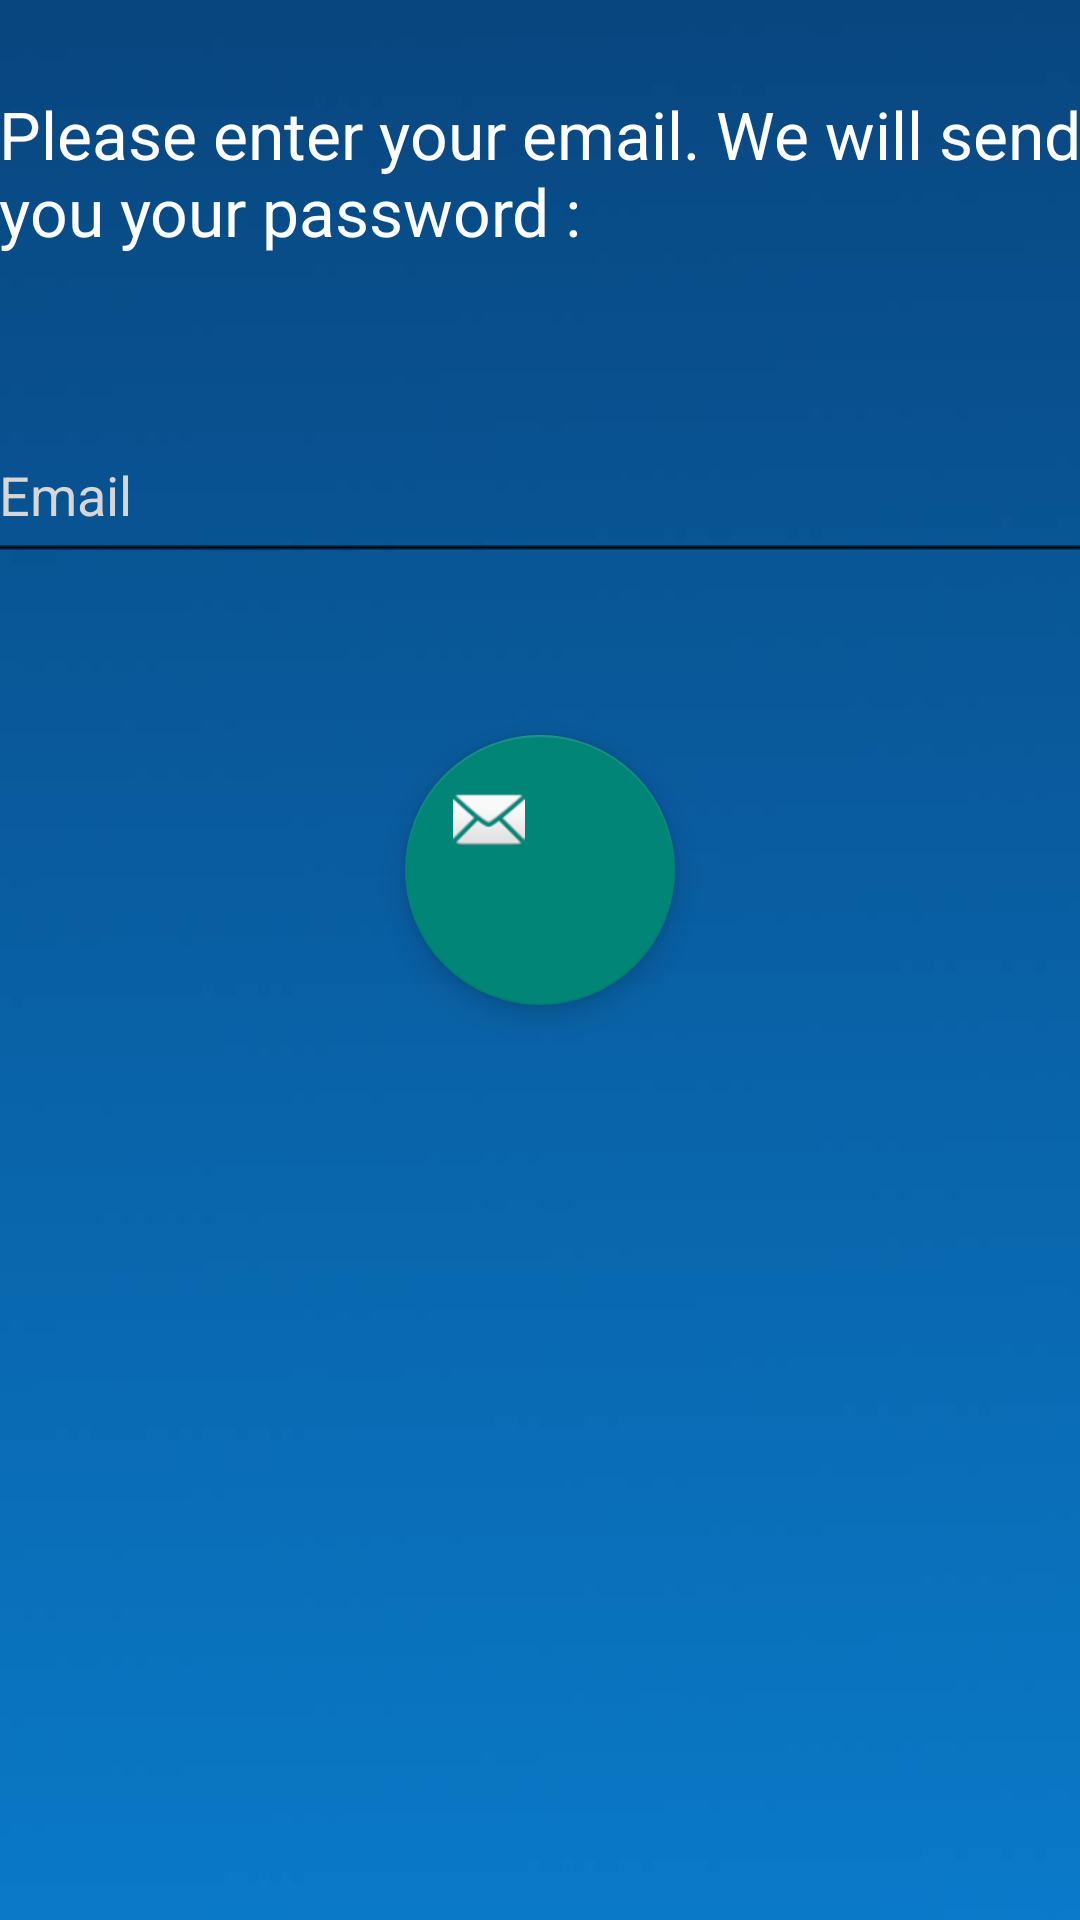

Where icons sit on this 1080w x 1920h app screen, as (x1, y1, x2, y2):
email: (405, 735, 675, 1005)
